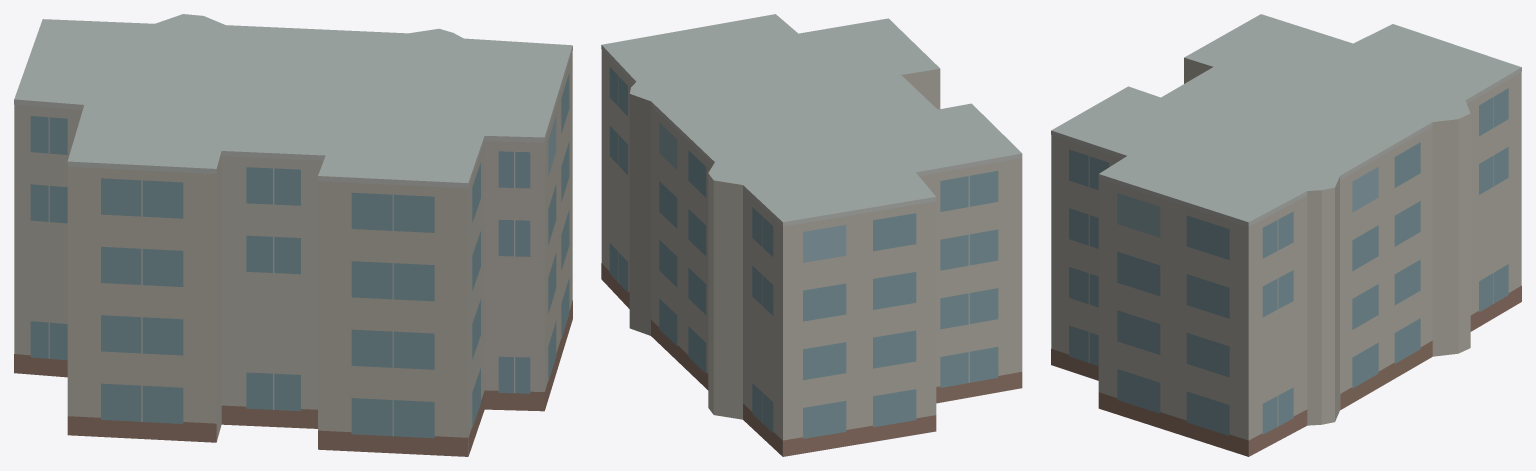
The model's file is survey-upis-32822906.glb.
3 views of the same model, side by side, from view 1: azimuth 30°, elevation 25°; view 2: azimuth 150°, elevation 25°; view 3: azimuth 270°, elevation 25° (orthographic). The views are drawn at different scales.
Parts seen in each view (by area): view 1: survey-upis-32822906.tmp; view 2: survey-upis-32822906.tmp; view 3: survey-upis-32822906.tmp.
Boxes of the visible parts, x1,y1,x2,y2 form: survey-upis-32822906.tmp: (14,14,572,456); survey-upis-32822906.tmp: (601,14,1022,456); survey-upis-32822906.tmp: (1051,14,1521,456).
Size of the model in its own units: 24.38 by 12.8 by 23.28.
